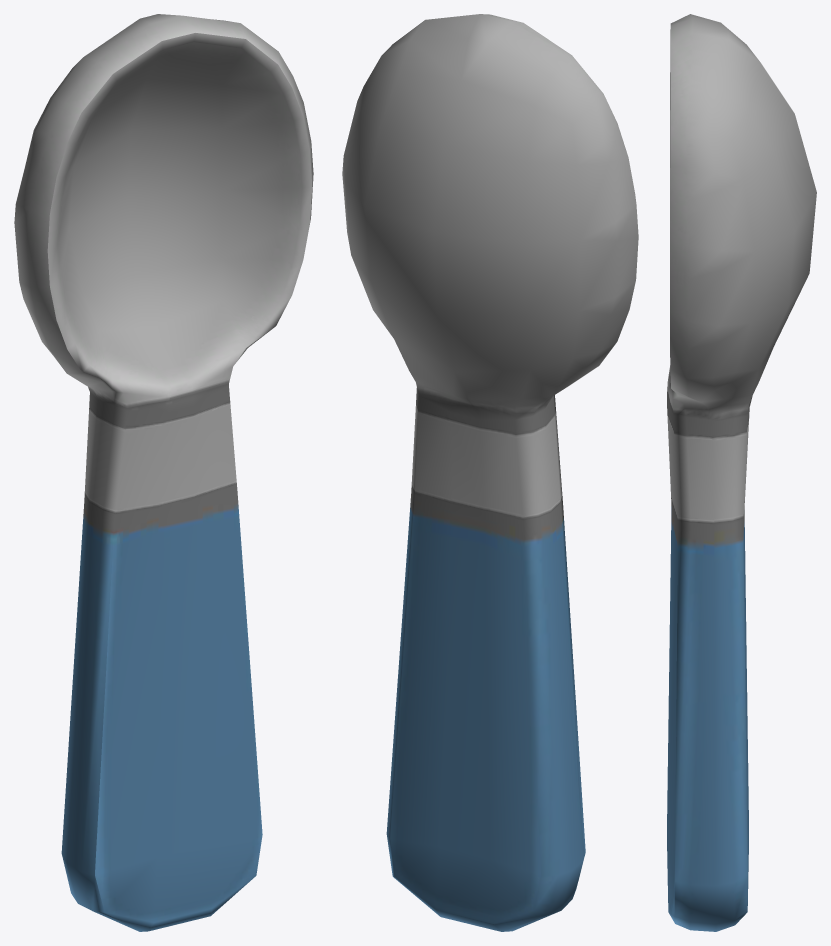
File: 0-spoon_blue.fbx
The picture shows the model from 3 angles, left to right: view 1: azimuth 30°, elevation 25°; view 2: azimuth 150°, elevation 25°; view 3: azimuth 270°, elevation 25°; orthographic projection.
Visible parts, largest first — view 1: 0-spoon_blue; view 2: 0-spoon_blue; view 3: 0-spoon_blue.
Boxes of the visible parts, box(x1,y1,x2,y2) form: 0-spoon_blue: box(14, 14, 313, 931); 0-spoon_blue: box(342, 14, 638, 931); 0-spoon_blue: box(667, 14, 816, 931).
Size of the model in its own units: 37.28 by 113 by 17.21.
